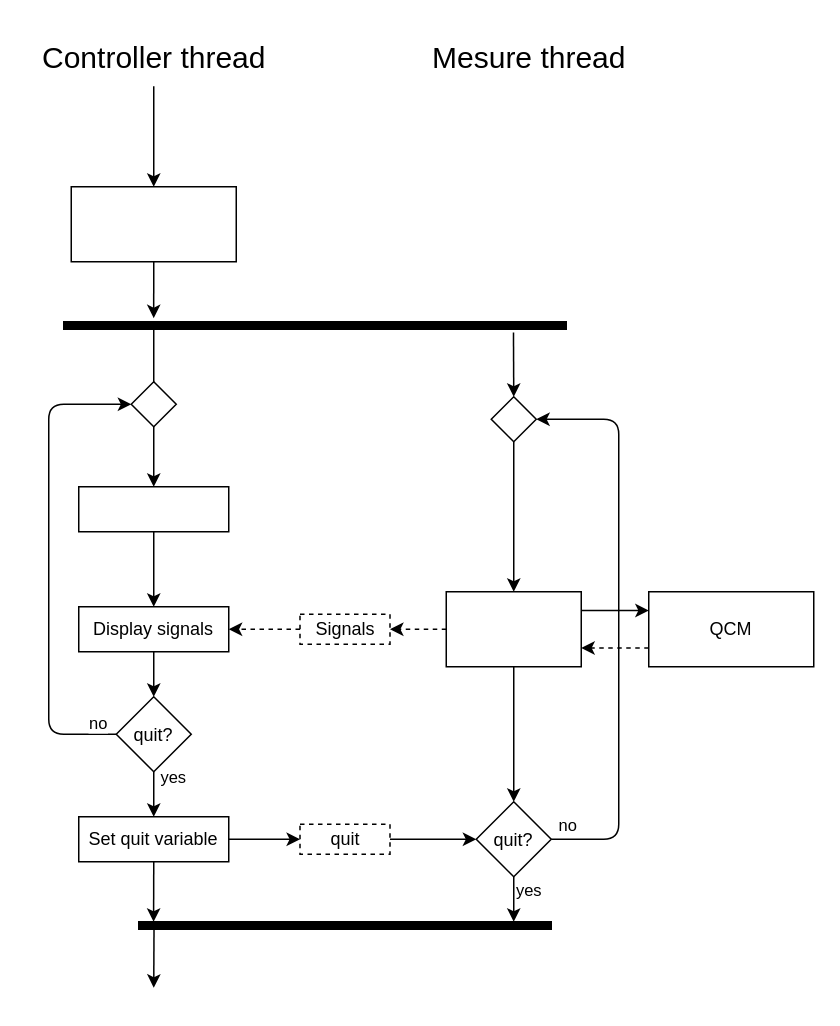
Some shapes in this 840 by 1026 pixel diagram are drawn without their labels. The shapes that lost their labels are listed below. From the top down, each one's centre as x and y in pixels, then its label:
At (x=153, y=223): "Create MesureThread".
At (x=153, y=508): "Wait 10ms".
At (x=513, y=628): "Get Data".
